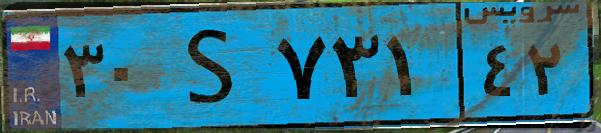0: (110, 28, 158, 98)
1: (385, 28, 445, 110)
2: (525, 38, 570, 115)
3: (330, 28, 385, 110), (57, 26, 110, 100)
4: (475, 38, 525, 113)
7: (270, 28, 330, 110)
S: (158, 12, 270, 120)
